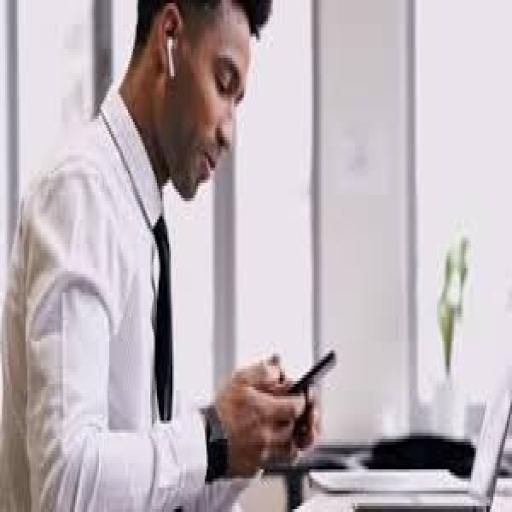listening_to_music: (0, 0, 323, 509)
